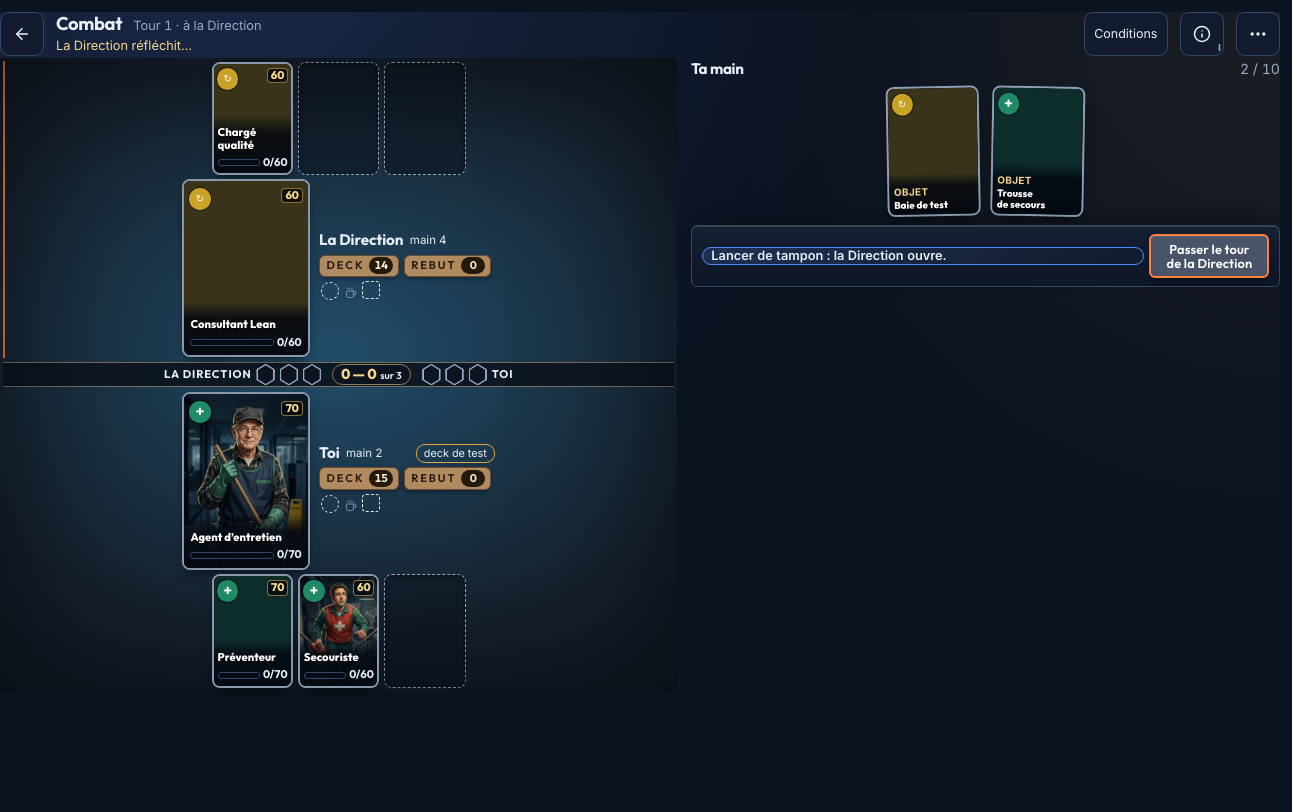
Battle — écran de combat › affiche la Partie à deux dans le menu, avec le bouton Créer
The width and height of the screenshot is (1292, 812).
What coordinates should you click on to do the following:
click the button named "Menu du combat"
I would click on:
 (1258, 34)
Its box is [1236,12,1280,56].
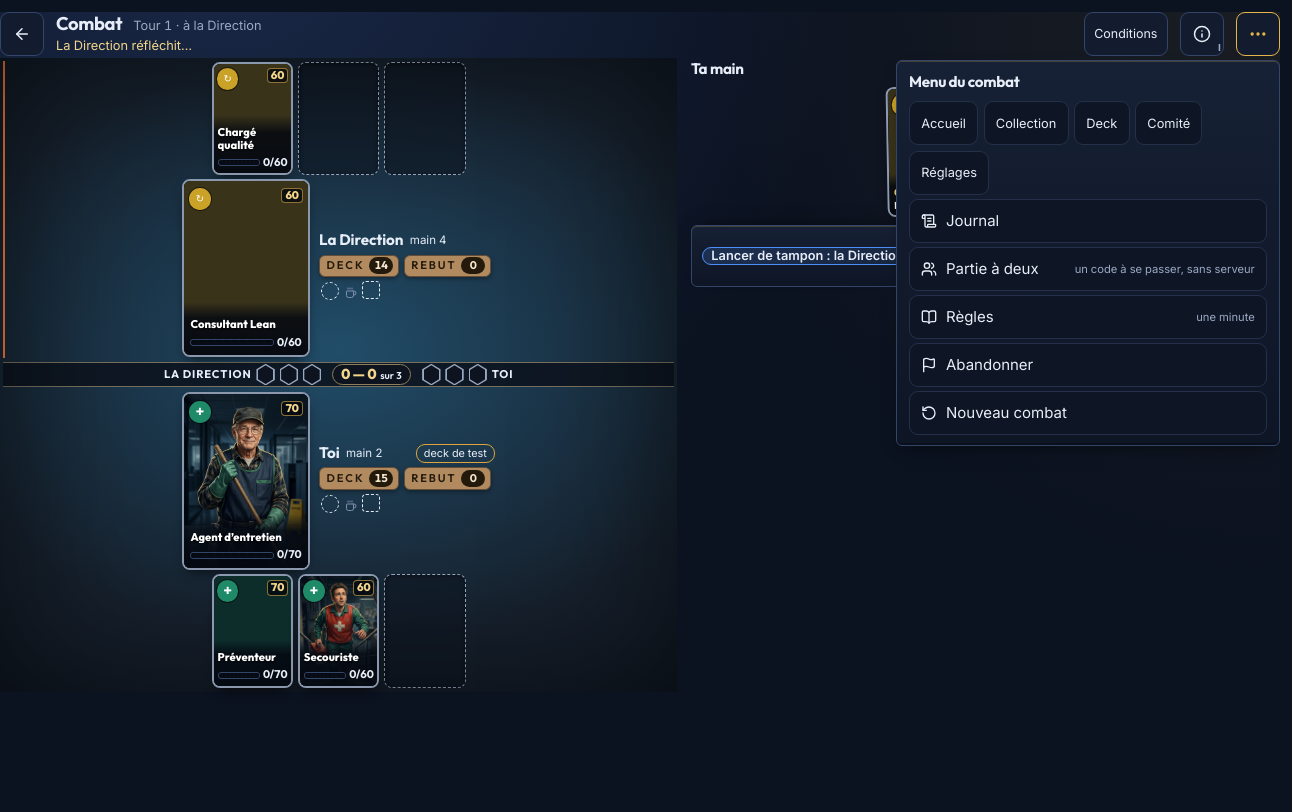
What coordinates should you click on to do the following:
click the button "Partie à deux un code à se passer, sans serveur"
I would click on:
 (1088, 269)
Its box is [909,247,1267,291].
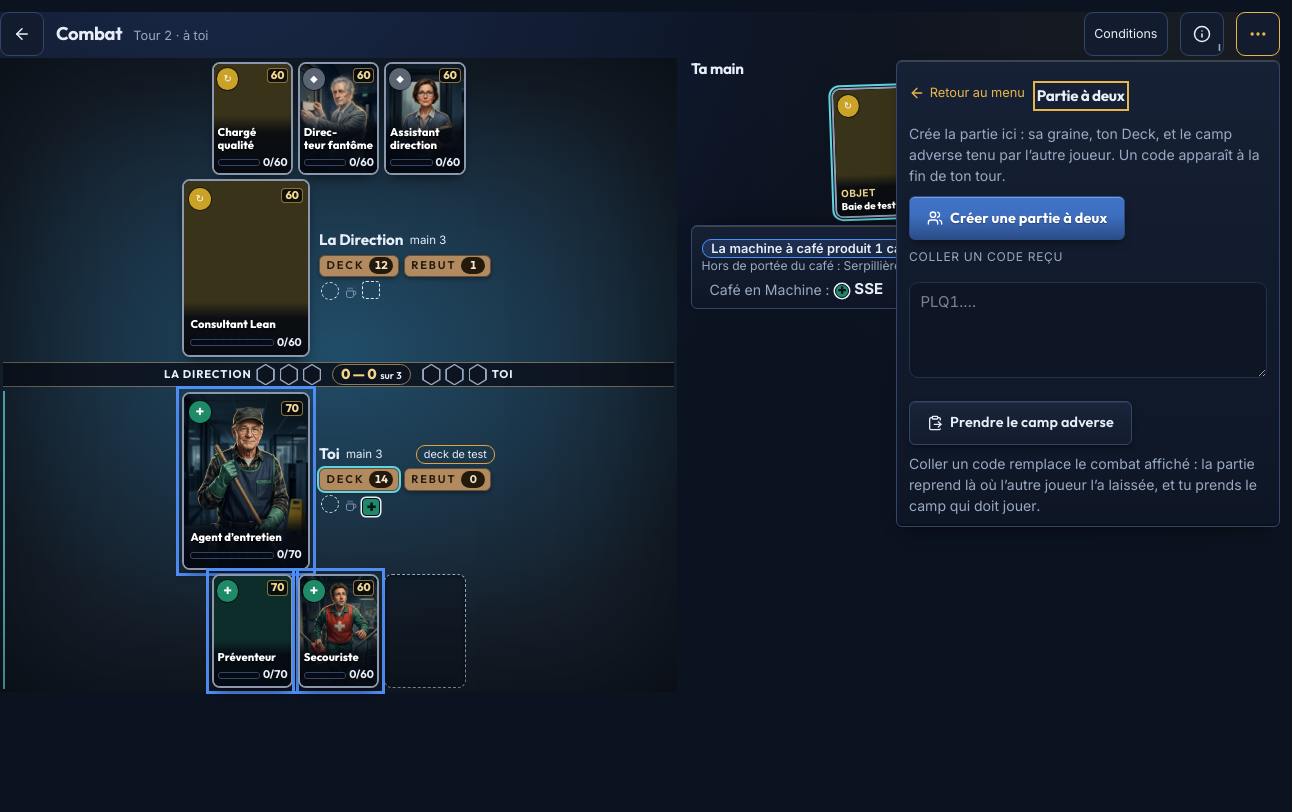
Result: the heading "Partie à deux" is shown at [1037,85,1125,107]
Result: the button "Créer une partie à deux" is shown at [909,196,1125,240]
